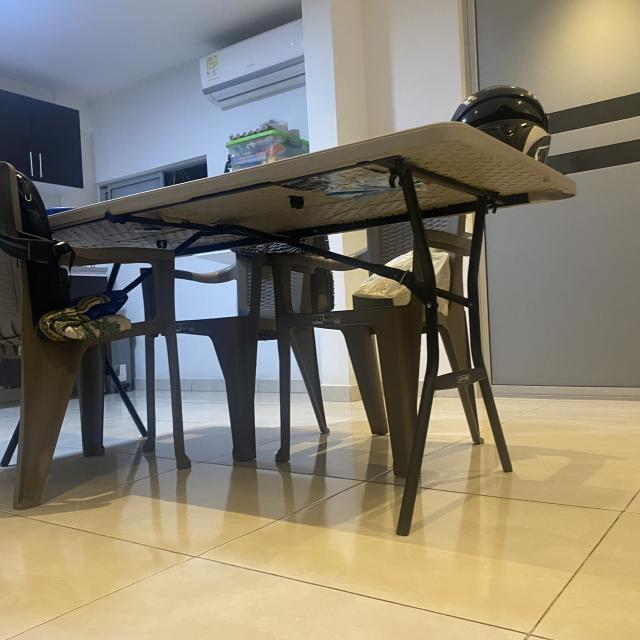obstacle: (0, 74, 584, 512)
